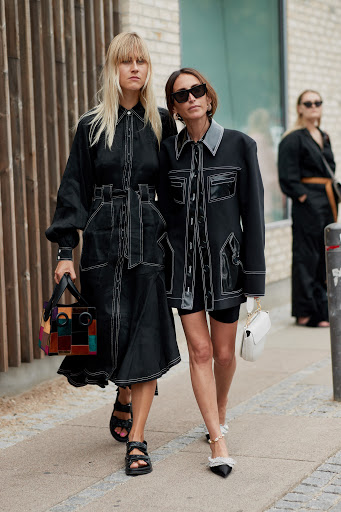Person: (37, 25, 185, 478), (158, 52, 261, 487), (278, 86, 341, 328)
